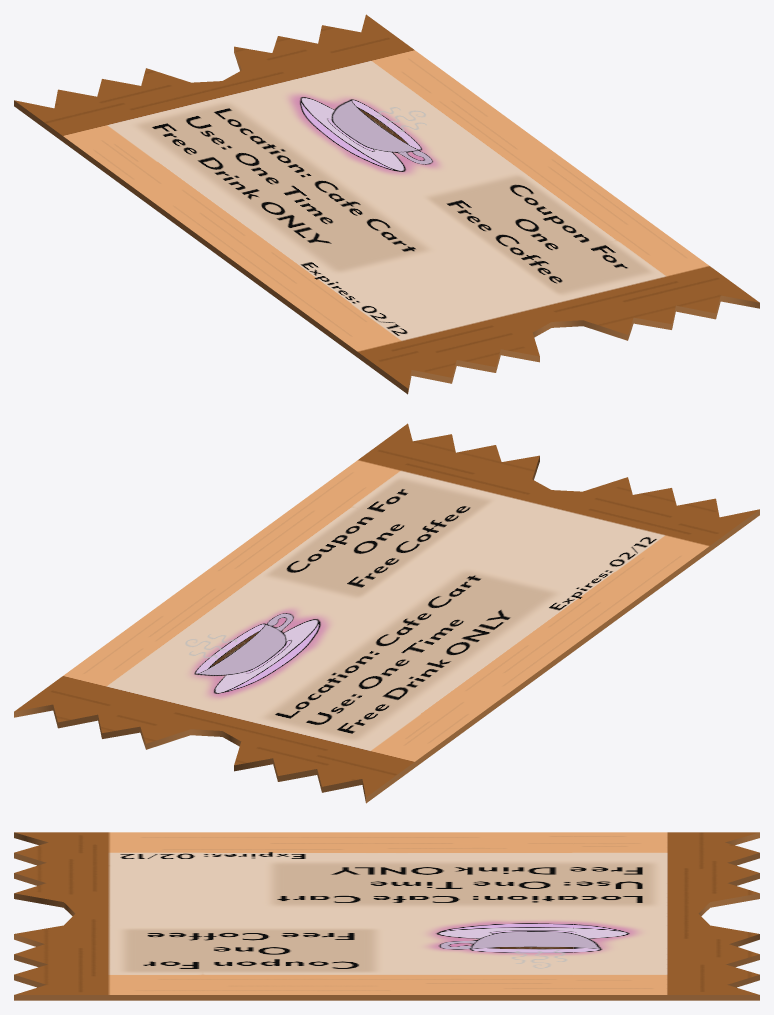
Rendered from Coupon.glb.
3 views of the same model, one above another, from view 1: azimuth 30°, elevation 25°; view 2: azimuth 150°, elevation 25°; view 3: azimuth 270°, elevation 25° (orthographic). The views are drawn at different scales.
Parts seen in each view (by area): view 1: Coupon; view 2: Coupon; view 3: Coupon.
Part boxes in pixels (x1,y1,x2,y2): Coupon: (14, 14, 759, 394); Coupon: (14, 423, 759, 803); Coupon: (14, 832, 759, 1000).
Size of the model in its own units: 0.3562 by 0.00579 by 0.6906.
1 material, 1 textured.
